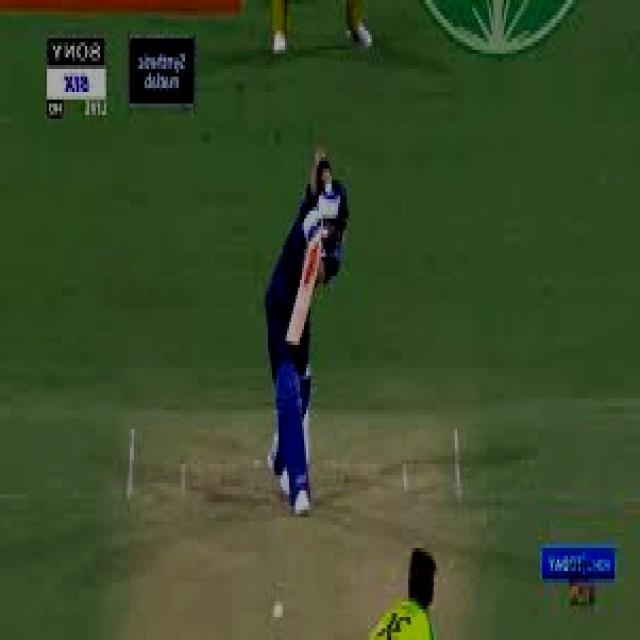bat: (278, 218, 326, 348)
toe: (279, 336, 307, 347)
